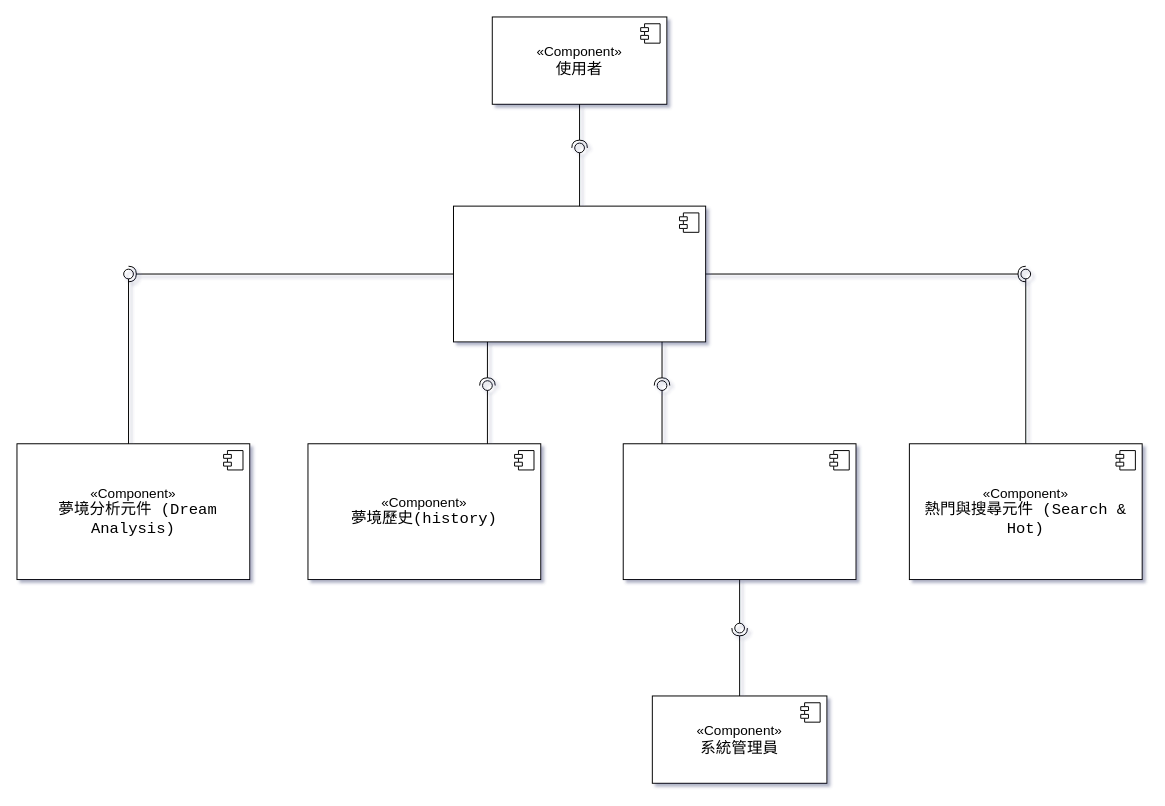
The diagram is 1165 pixels wide and 806 high, and some of its shapes have lost their labels. The box of each missing label's shape, as (x1, y1, x2, y2) in pixels:
«Component» DreamEcho AI 系統: (453, 205, 706, 342)
«Component» 貼文社群元件 (Post & Forum): (622, 443, 856, 580)
